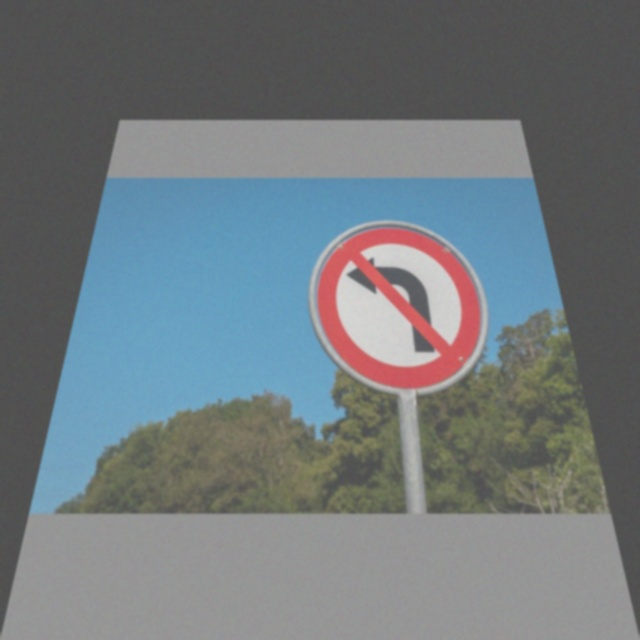Left_Turn_Prohibited: (309, 226, 501, 391)
